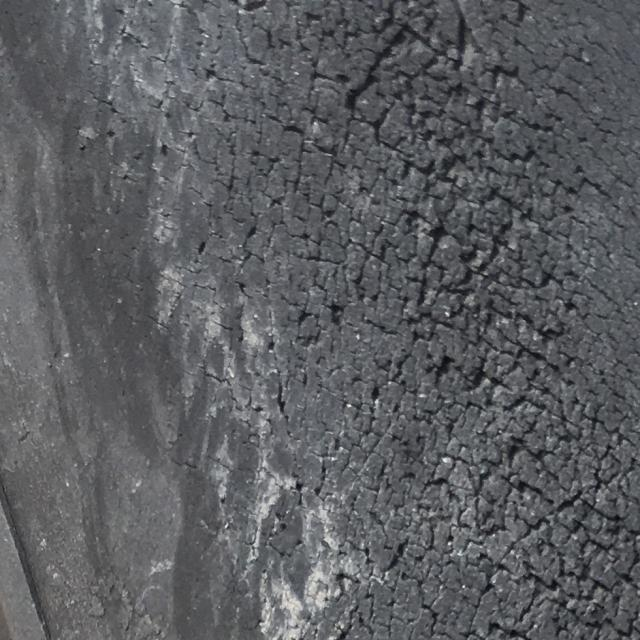Cracks: (50, 0, 639, 639)
